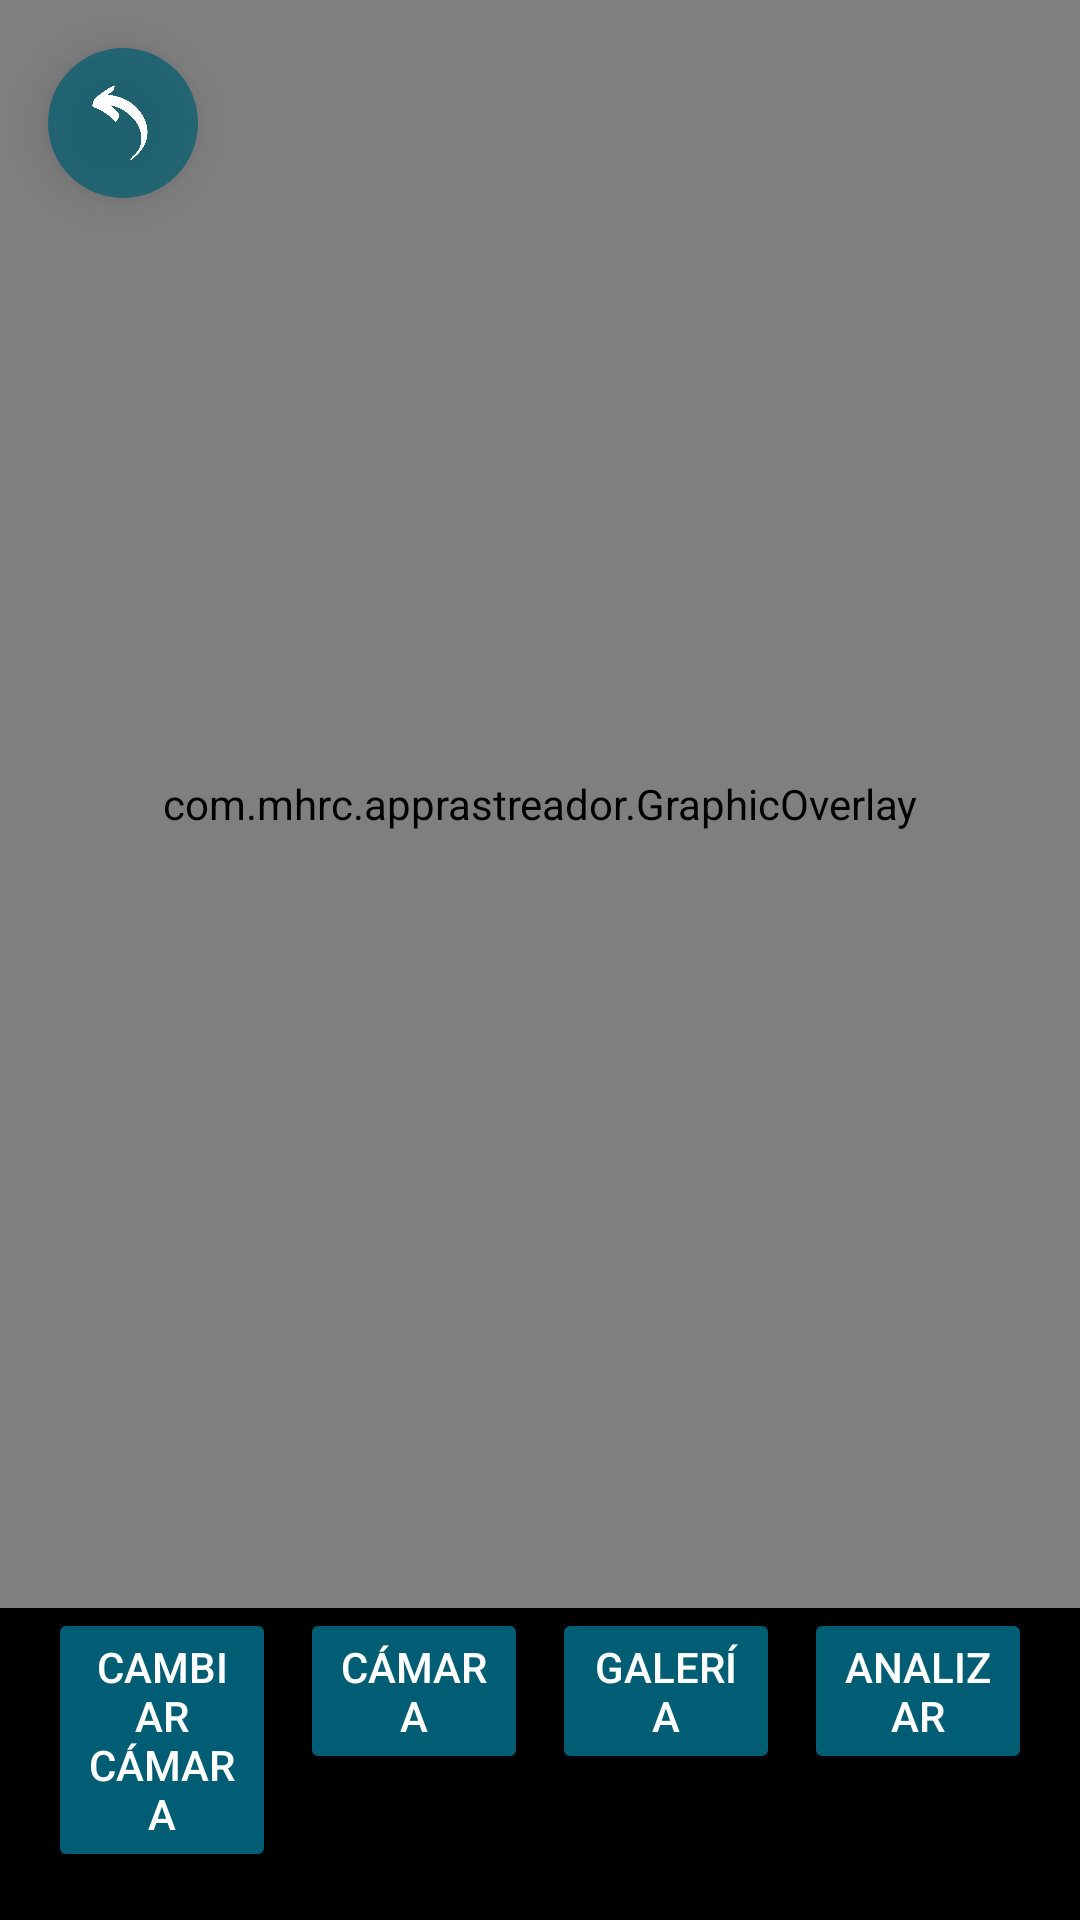

Icon bounding boxes for this 1080px×1920px phone screenshot, format bbox=(x1, y1, x2, y2):
Regresar: bbox=(48, 48, 198, 198)
